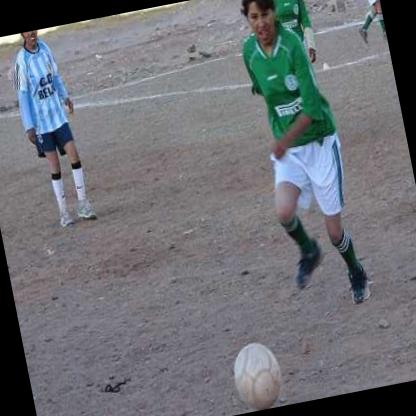ball: (228, 339, 287, 412)
